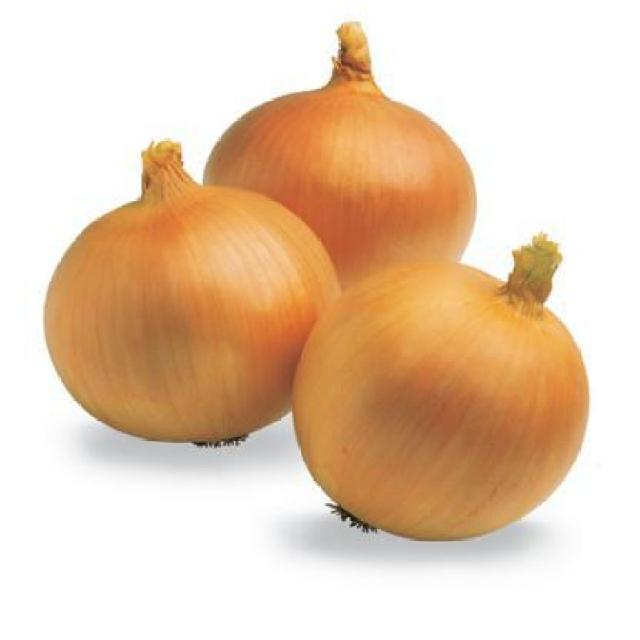onion: (304, 247, 599, 539), (38, 183, 297, 415), (198, 42, 478, 244)
